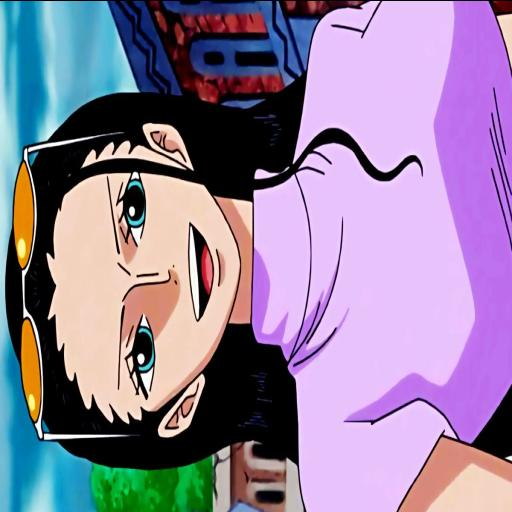NicoRobin: (16, 134, 299, 462)
